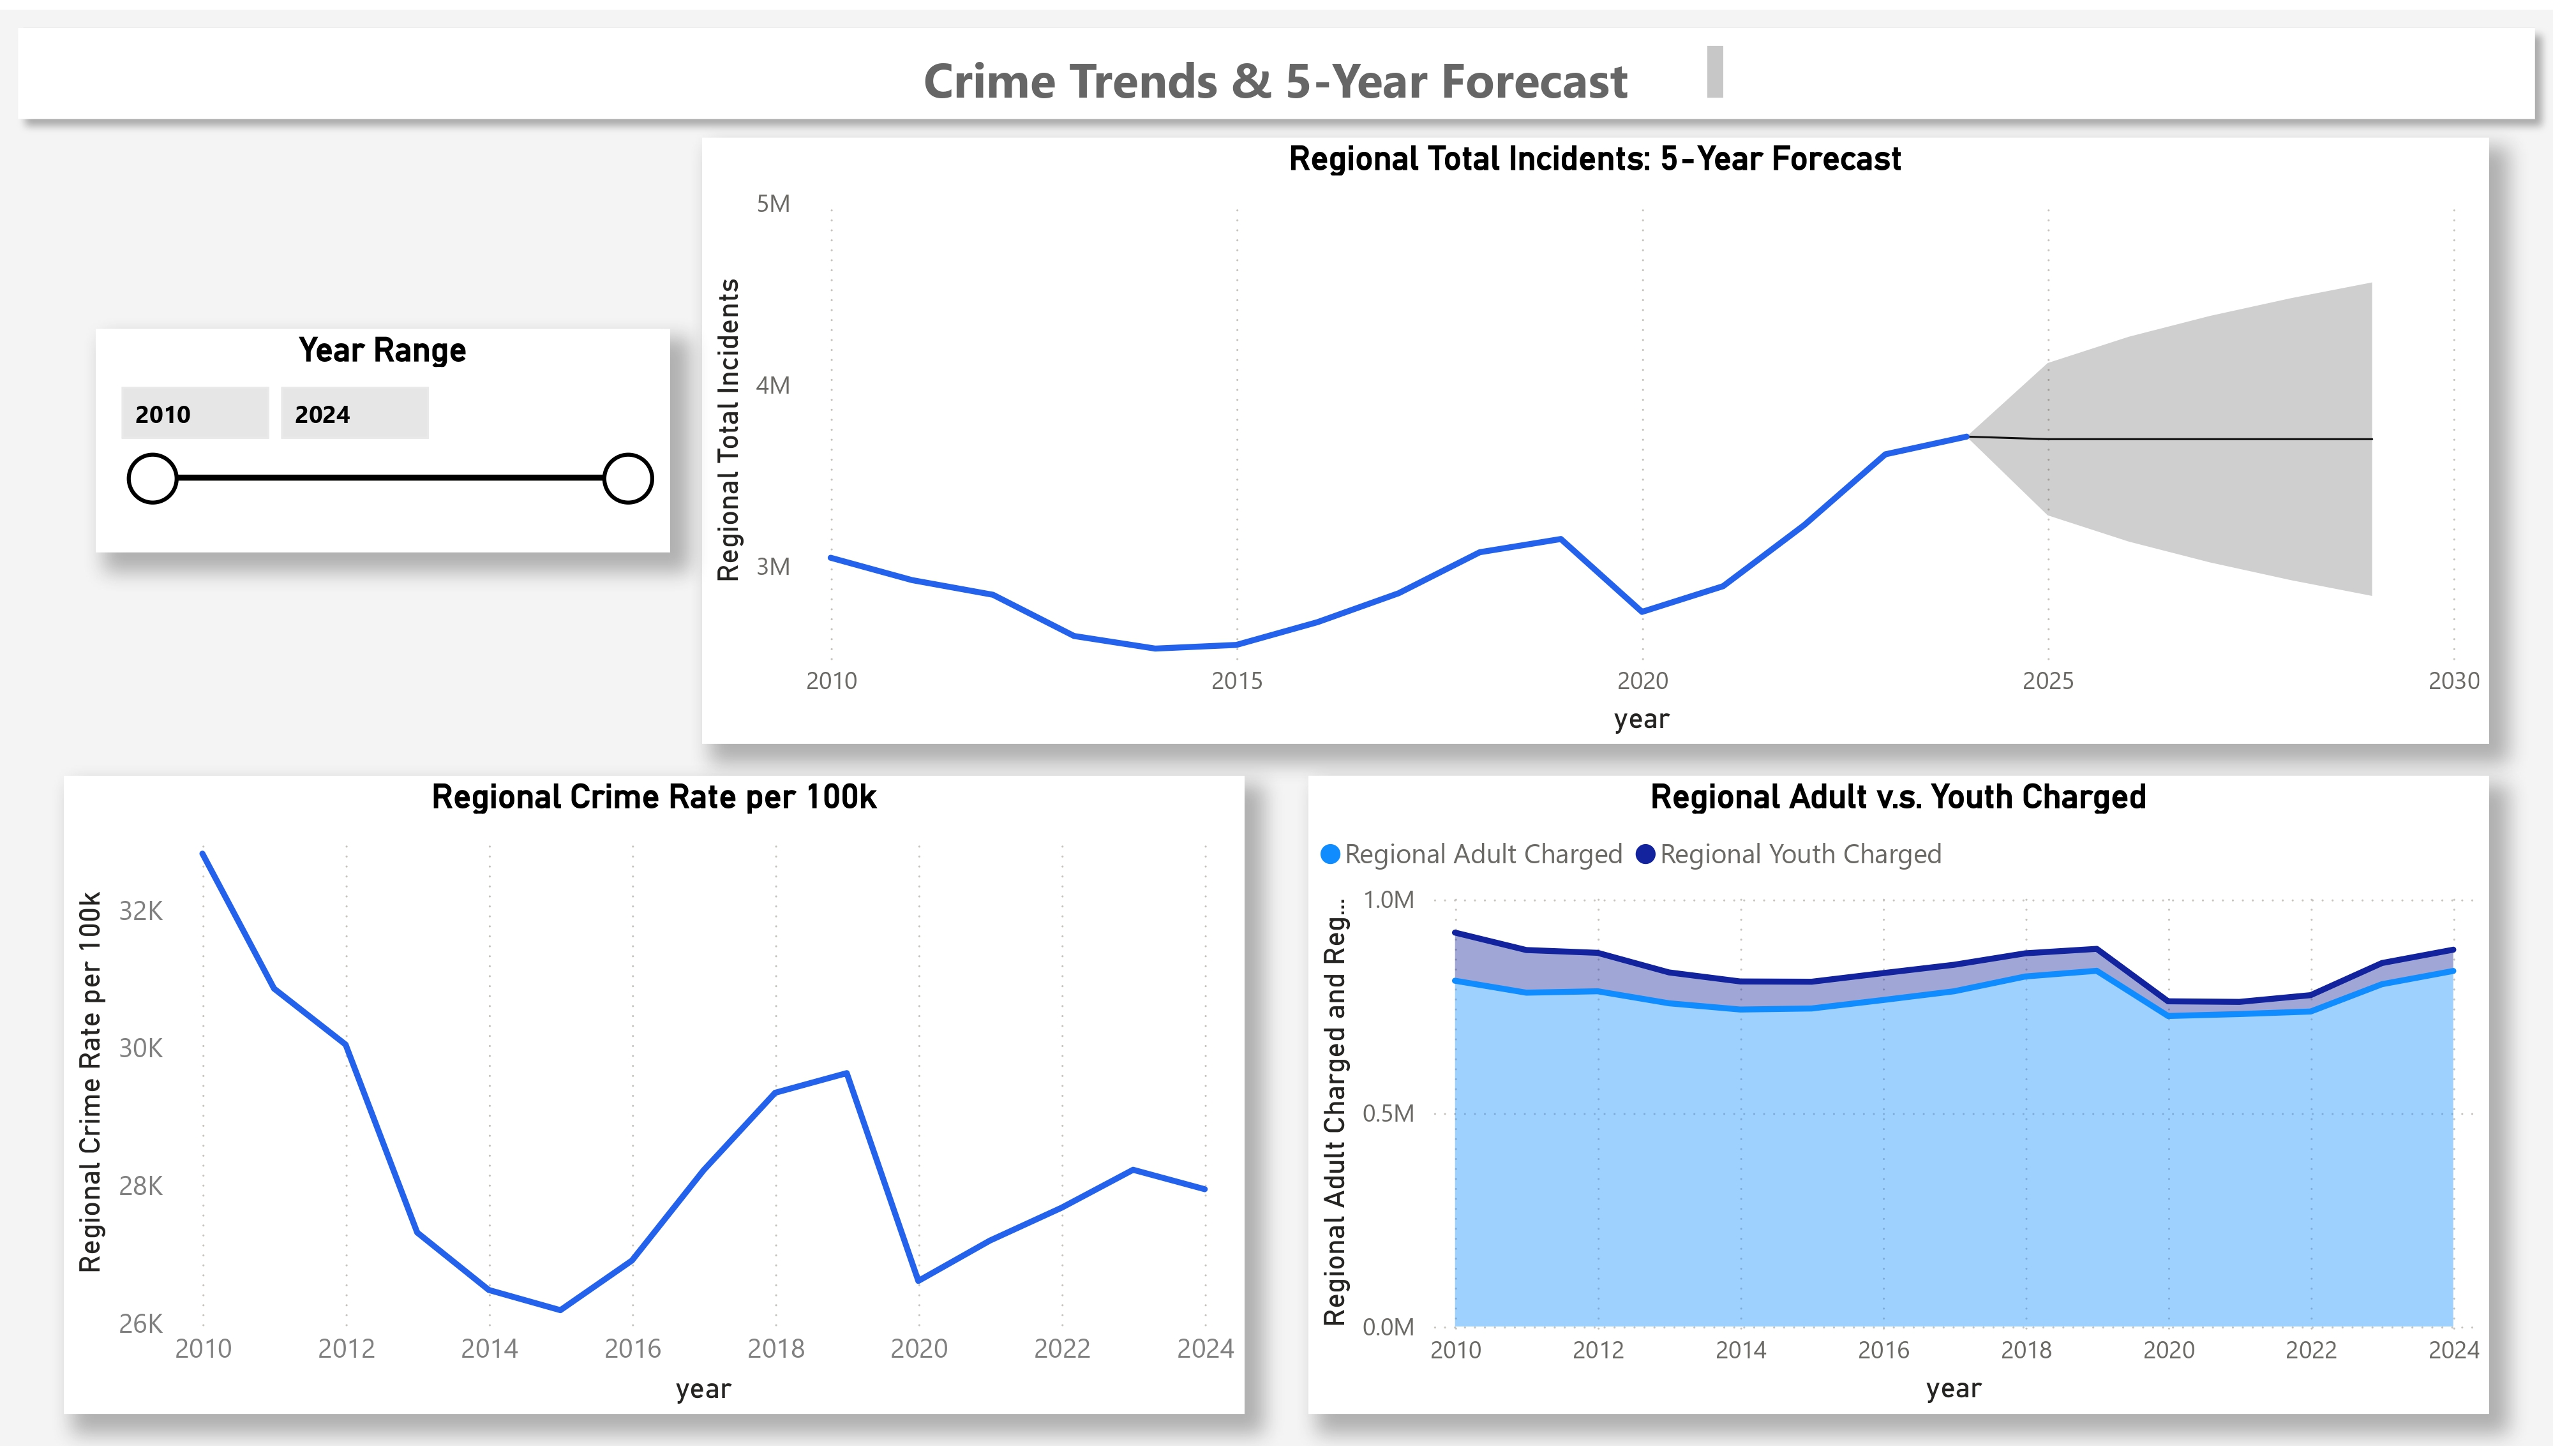

This screenshot's page, from the dashboard's own definition file:
{"tool":"powerbi","page":{"name":"Trends + Forecast","canvas":[1280,720],"ordinal":1},"visuals":[{"type":"lineChart","title":"Regional Total Incidents: 5-Year Forecast","fields":{"Category":["crime_annual_region.year"],"Y":["crime_annual_region.Regional Total Incidents"]},"box":[352,64,896,304],"z":0},{"type":"stackedAreaChart","title":"Regional Adult v.s. Youth Charged","fields":{"Category":["crime_annual_region.year"],"Y":["crime_annual_region.Regional Adult Charged","crime_annual_region.Regional Youth Charged"]},"box":[656,384,592,320],"z":1000},{"type":"shape","box":[0,0,1280,63.8],"z":2000},{"type":"textbox","box":[417.5,12.5,451.2,38.8],"z":3000},{"type":"lineChart","title":"Regional Crime Rate per 100k","fields":{"Category":["crime_annual_region.year"],"Y":["crime_annual_region.Regional Crime Rate per 100k"]},"box":[32,384,592,320],"z":4000},{"type":"slicer","title":"Year Range","fields":{"Values":["crime_annual_region.year"]},"box":[48,160,288,112],"z":5000}]}

Visuals, with their boxes in screenshot pixels (x1, y1, x2, y2), scaled from the page's 1280x720 canvas onto the 2553x1456 screenshot:
"Regional Total Incidents: 5-Year Forecast" lineChart: (x1=702, y1=130, x2=2489, y2=744)
"Regional Adult v.s. Youth Charged" stackedAreaChart: (x1=1308, y1=776, x2=2489, y2=1423)
shape: (x1=0, y1=0, x2=2552, y2=129)
textbox: (x1=833, y1=26, x2=1733, y2=104)
"Regional Crime Rate per 100k" lineChart: (x1=64, y1=776, x2=1245, y2=1423)
"Year Range" slicer: (x1=96, y1=323, x2=670, y2=550)
